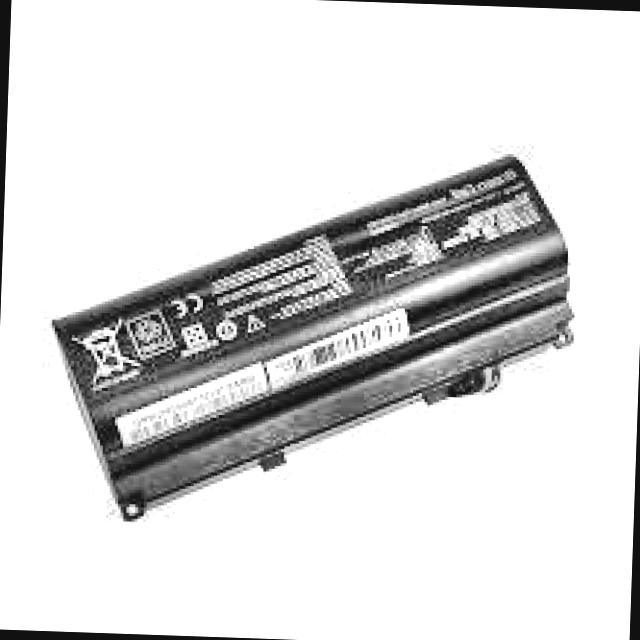Battery: (46, 140, 574, 522)
